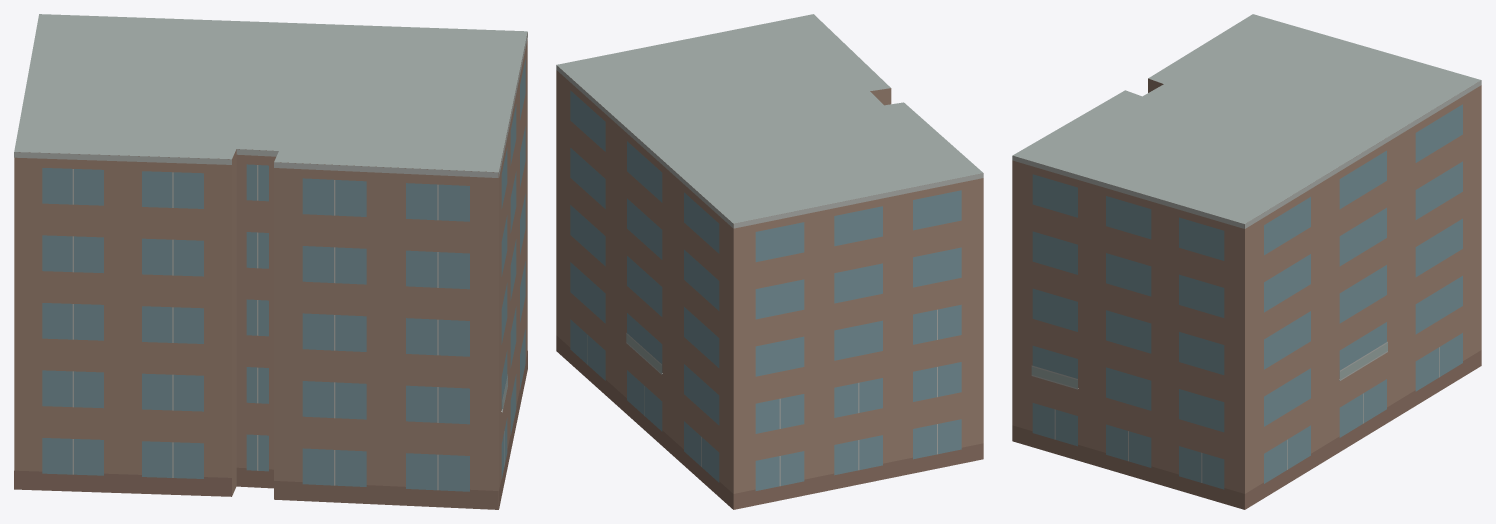
Rendered from survey-upis-32739321.glb.
The picture shows the model from 3 angles, left to right: view 1: azimuth 30°, elevation 25°; view 2: azimuth 150°, elevation 25°; view 3: azimuth 270°, elevation 25°; orthographic projection. The views are drawn at different scales.
Parts seen in each view (by area): view 1: survey-upis-32739321.tmp; view 2: survey-upis-32739321.tmp; view 3: survey-upis-32739321.tmp.
Part boxes in pixels (x1,y1,x2,y2): survey-upis-32739321.tmp: [14, 14, 527, 509]; survey-upis-32739321.tmp: [556, 14, 983, 509]; survey-upis-32739321.tmp: [1012, 14, 1481, 509].
Size of the model in its own units: 22.41 by 14.2 by 21.14.
